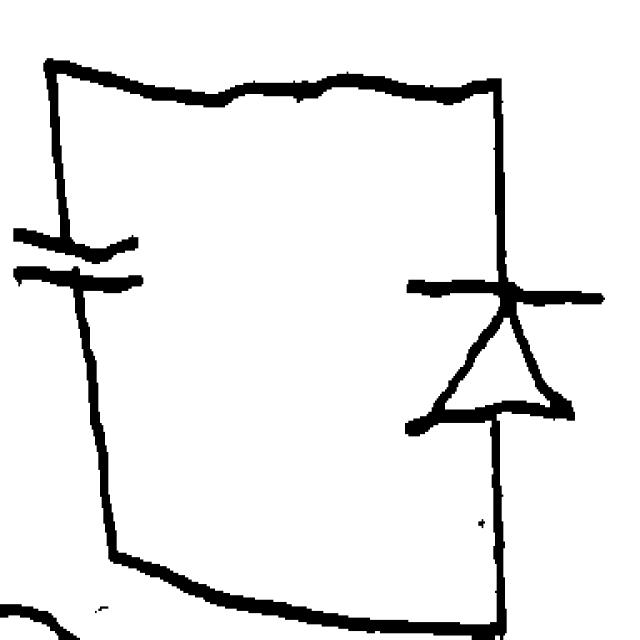capacitor: (5, 209, 153, 325)
diode: (384, 254, 612, 447)
